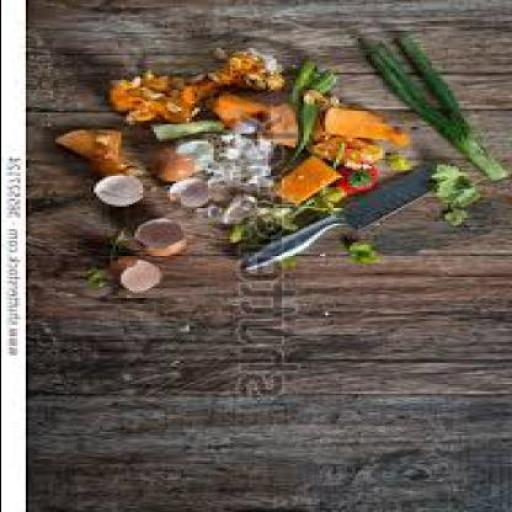biodegradable: (368, 36, 510, 182), (106, 52, 288, 126), (216, 134, 274, 197), (57, 131, 134, 178), (433, 166, 485, 228), (282, 160, 340, 207), (313, 140, 387, 172), (327, 109, 392, 141), (139, 220, 191, 260), (112, 258, 166, 296), (289, 107, 321, 169), (150, 120, 229, 142), (96, 180, 150, 210), (172, 142, 221, 174), (152, 152, 199, 184), (169, 178, 213, 210), (289, 65, 321, 105), (337, 168, 382, 193), (259, 208, 300, 235), (305, 75, 346, 99), (308, 190, 348, 214), (232, 194, 262, 224), (352, 241, 384, 265), (379, 128, 414, 149), (196, 208, 234, 224), (109, 231, 133, 256), (306, 89, 332, 109), (232, 118, 262, 134), (392, 158, 417, 174), (90, 272, 114, 288), (236, 229, 254, 242), (286, 262, 297, 272)
metal: (245, 160, 438, 273)
